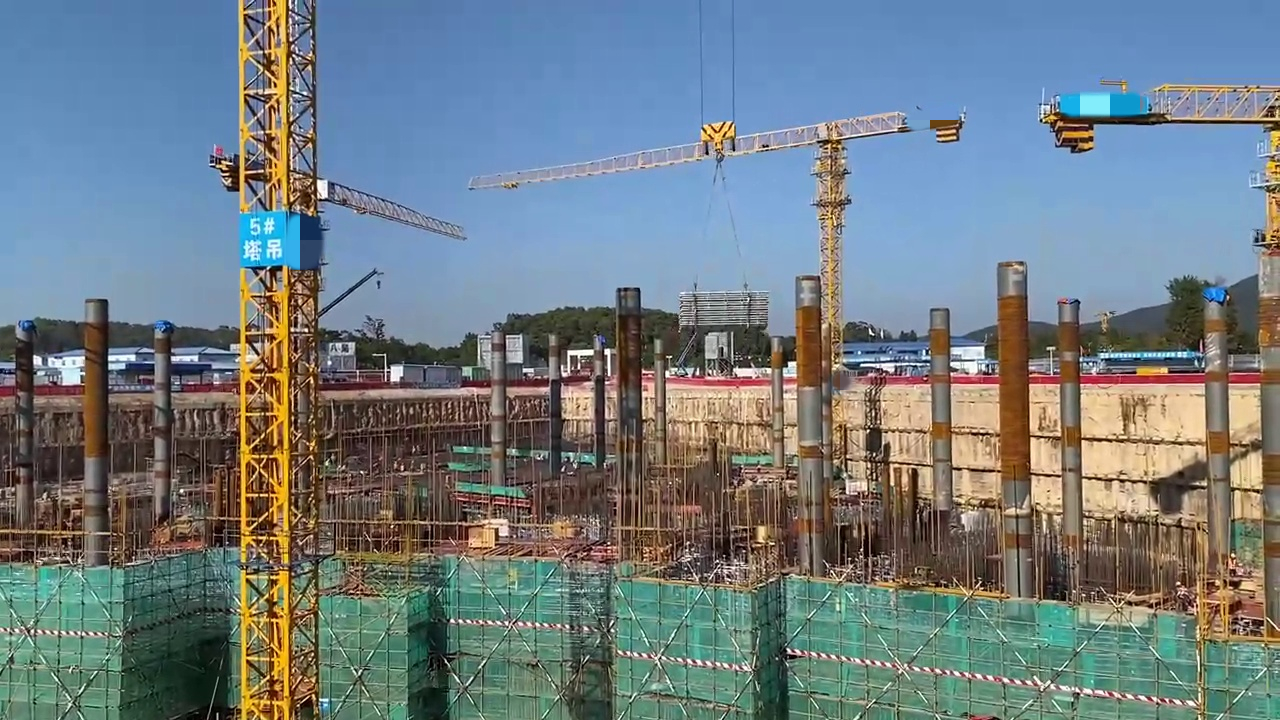hook: (701, 120, 737, 151)
scaffold: (677, 289, 769, 329)
